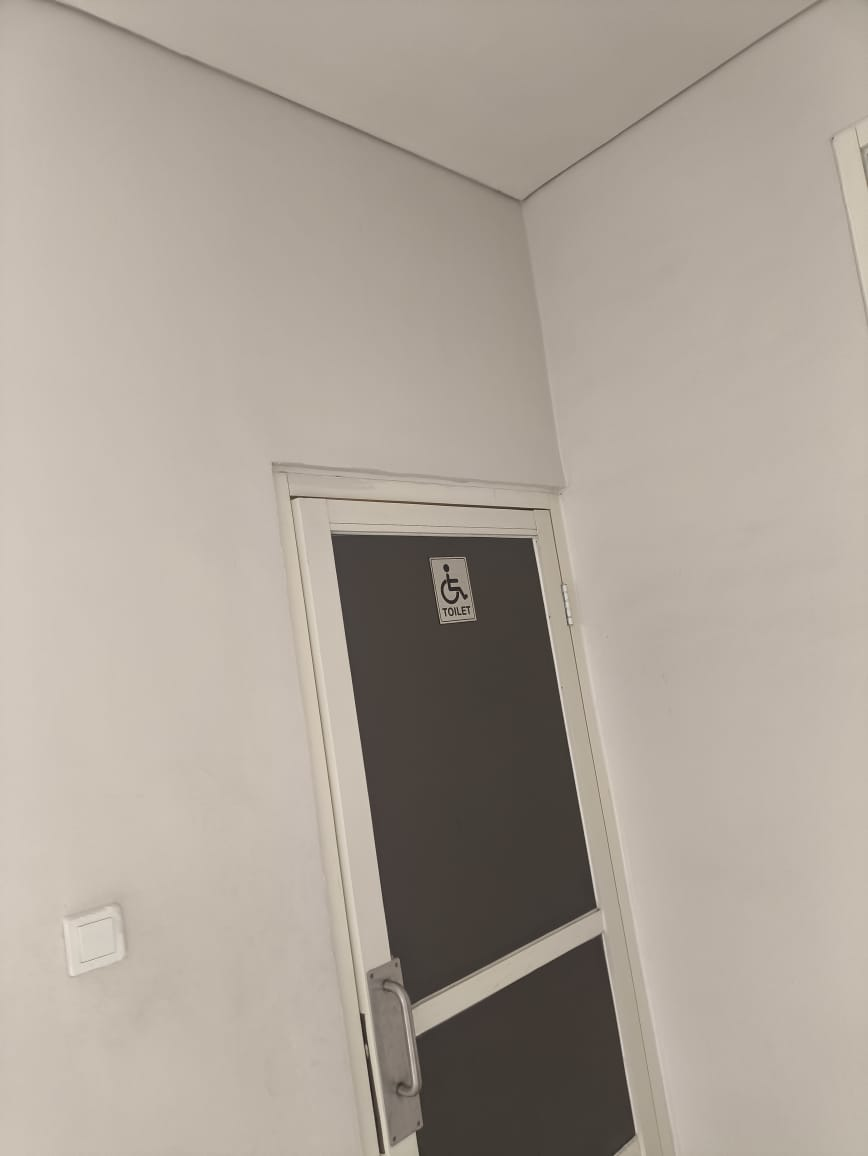toilet difabel: (413, 546, 483, 628)
